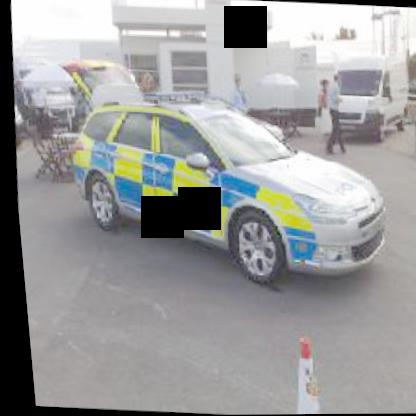emergency: (54, 79, 402, 298)
not_emergency: (314, 40, 415, 147)
